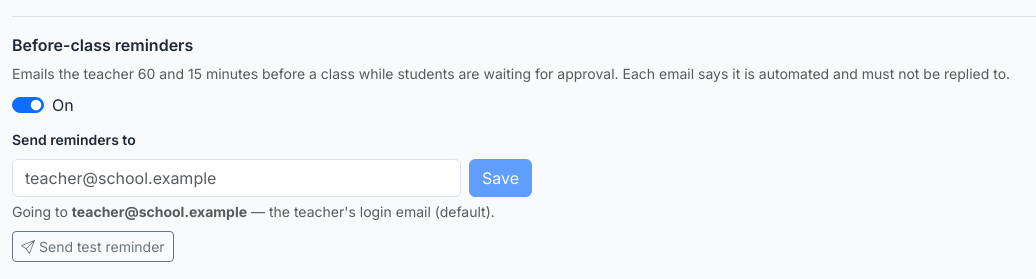
before-class reminders card › a bad address is caught before sending
This screenshot has width=1036, height=279.
In the field labelled "Send reminders to": coordinates (236, 178) [12, 159, 461, 197], type "nope"
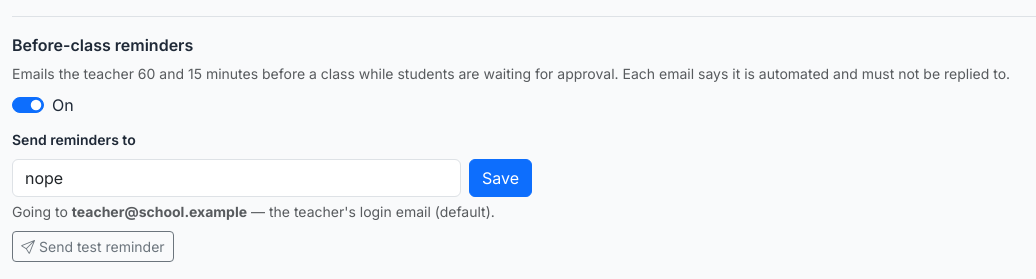
Click the button "Save": coordinates (500, 178) [469, 159, 532, 197]
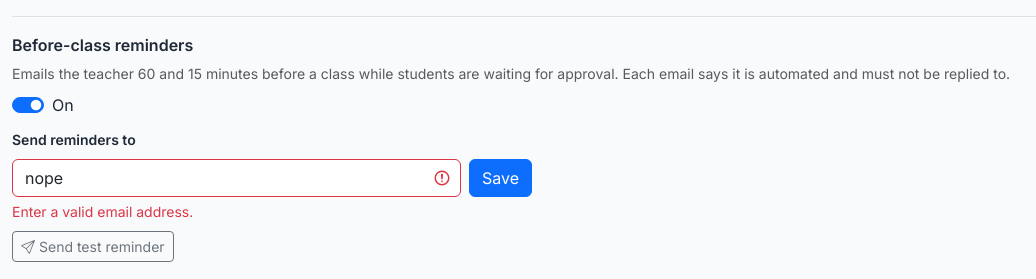
Expected: the text "Enter a valid email address." is shown, [12, 203, 193, 220]
